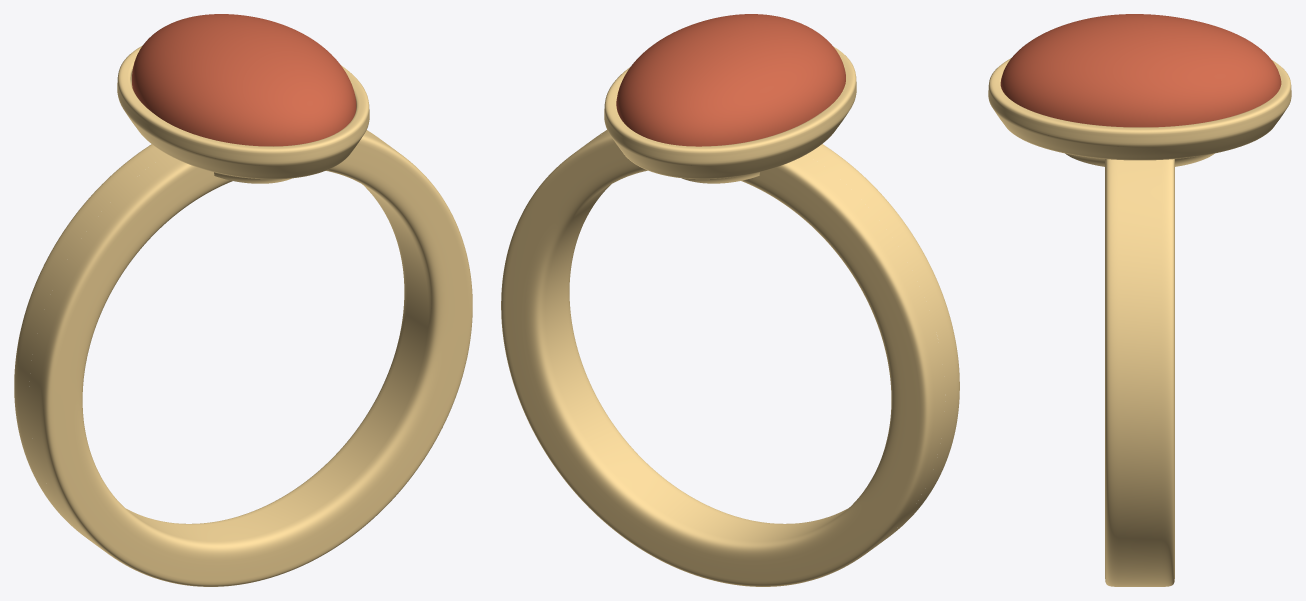
File: vyoma-contemporary-moonga.glb
3 renders of one model, left to right at view 1: azimuth 30°, elevation 25°; view 2: azimuth 150°, elevation 25°; view 3: azimuth 270°, elevation 25°, orthographic.
Visible parts, largest first — view 1: shank, stone, metal; view 2: shank, stone, metal; view 3: shank, stone, metal.
Boxes of the visible parts, bbox=[...] form: shank: bbox=[14, 130, 472, 586]; stone: bbox=[132, 14, 356, 146]; metal: bbox=[117, 45, 369, 183]; shank: bbox=[501, 130, 959, 586]; stone: bbox=[616, 14, 845, 146]; metal: bbox=[604, 47, 856, 183]; shank: bbox=[1105, 159, 1174, 586]; stone: bbox=[1000, 14, 1281, 127]; metal: bbox=[988, 58, 1291, 166].
Bounding box in the file's own units: 2.13 × 2.53 × 1.3.
